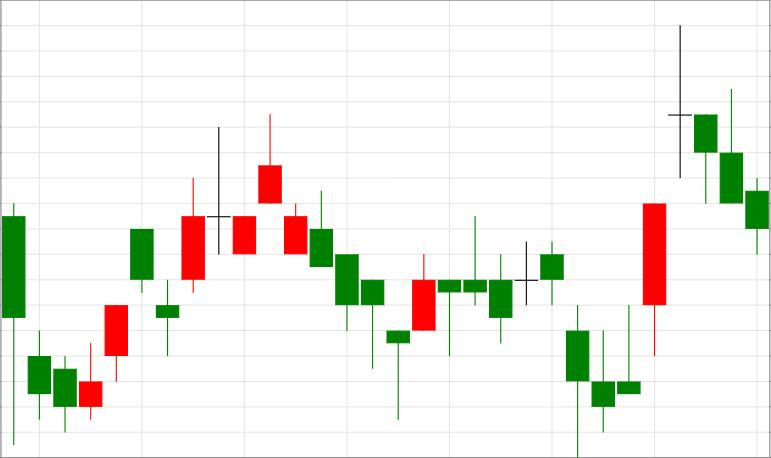hammer_rise: (258, 115, 384, 368)
morning_star_rise: (258, 114, 436, 421)
